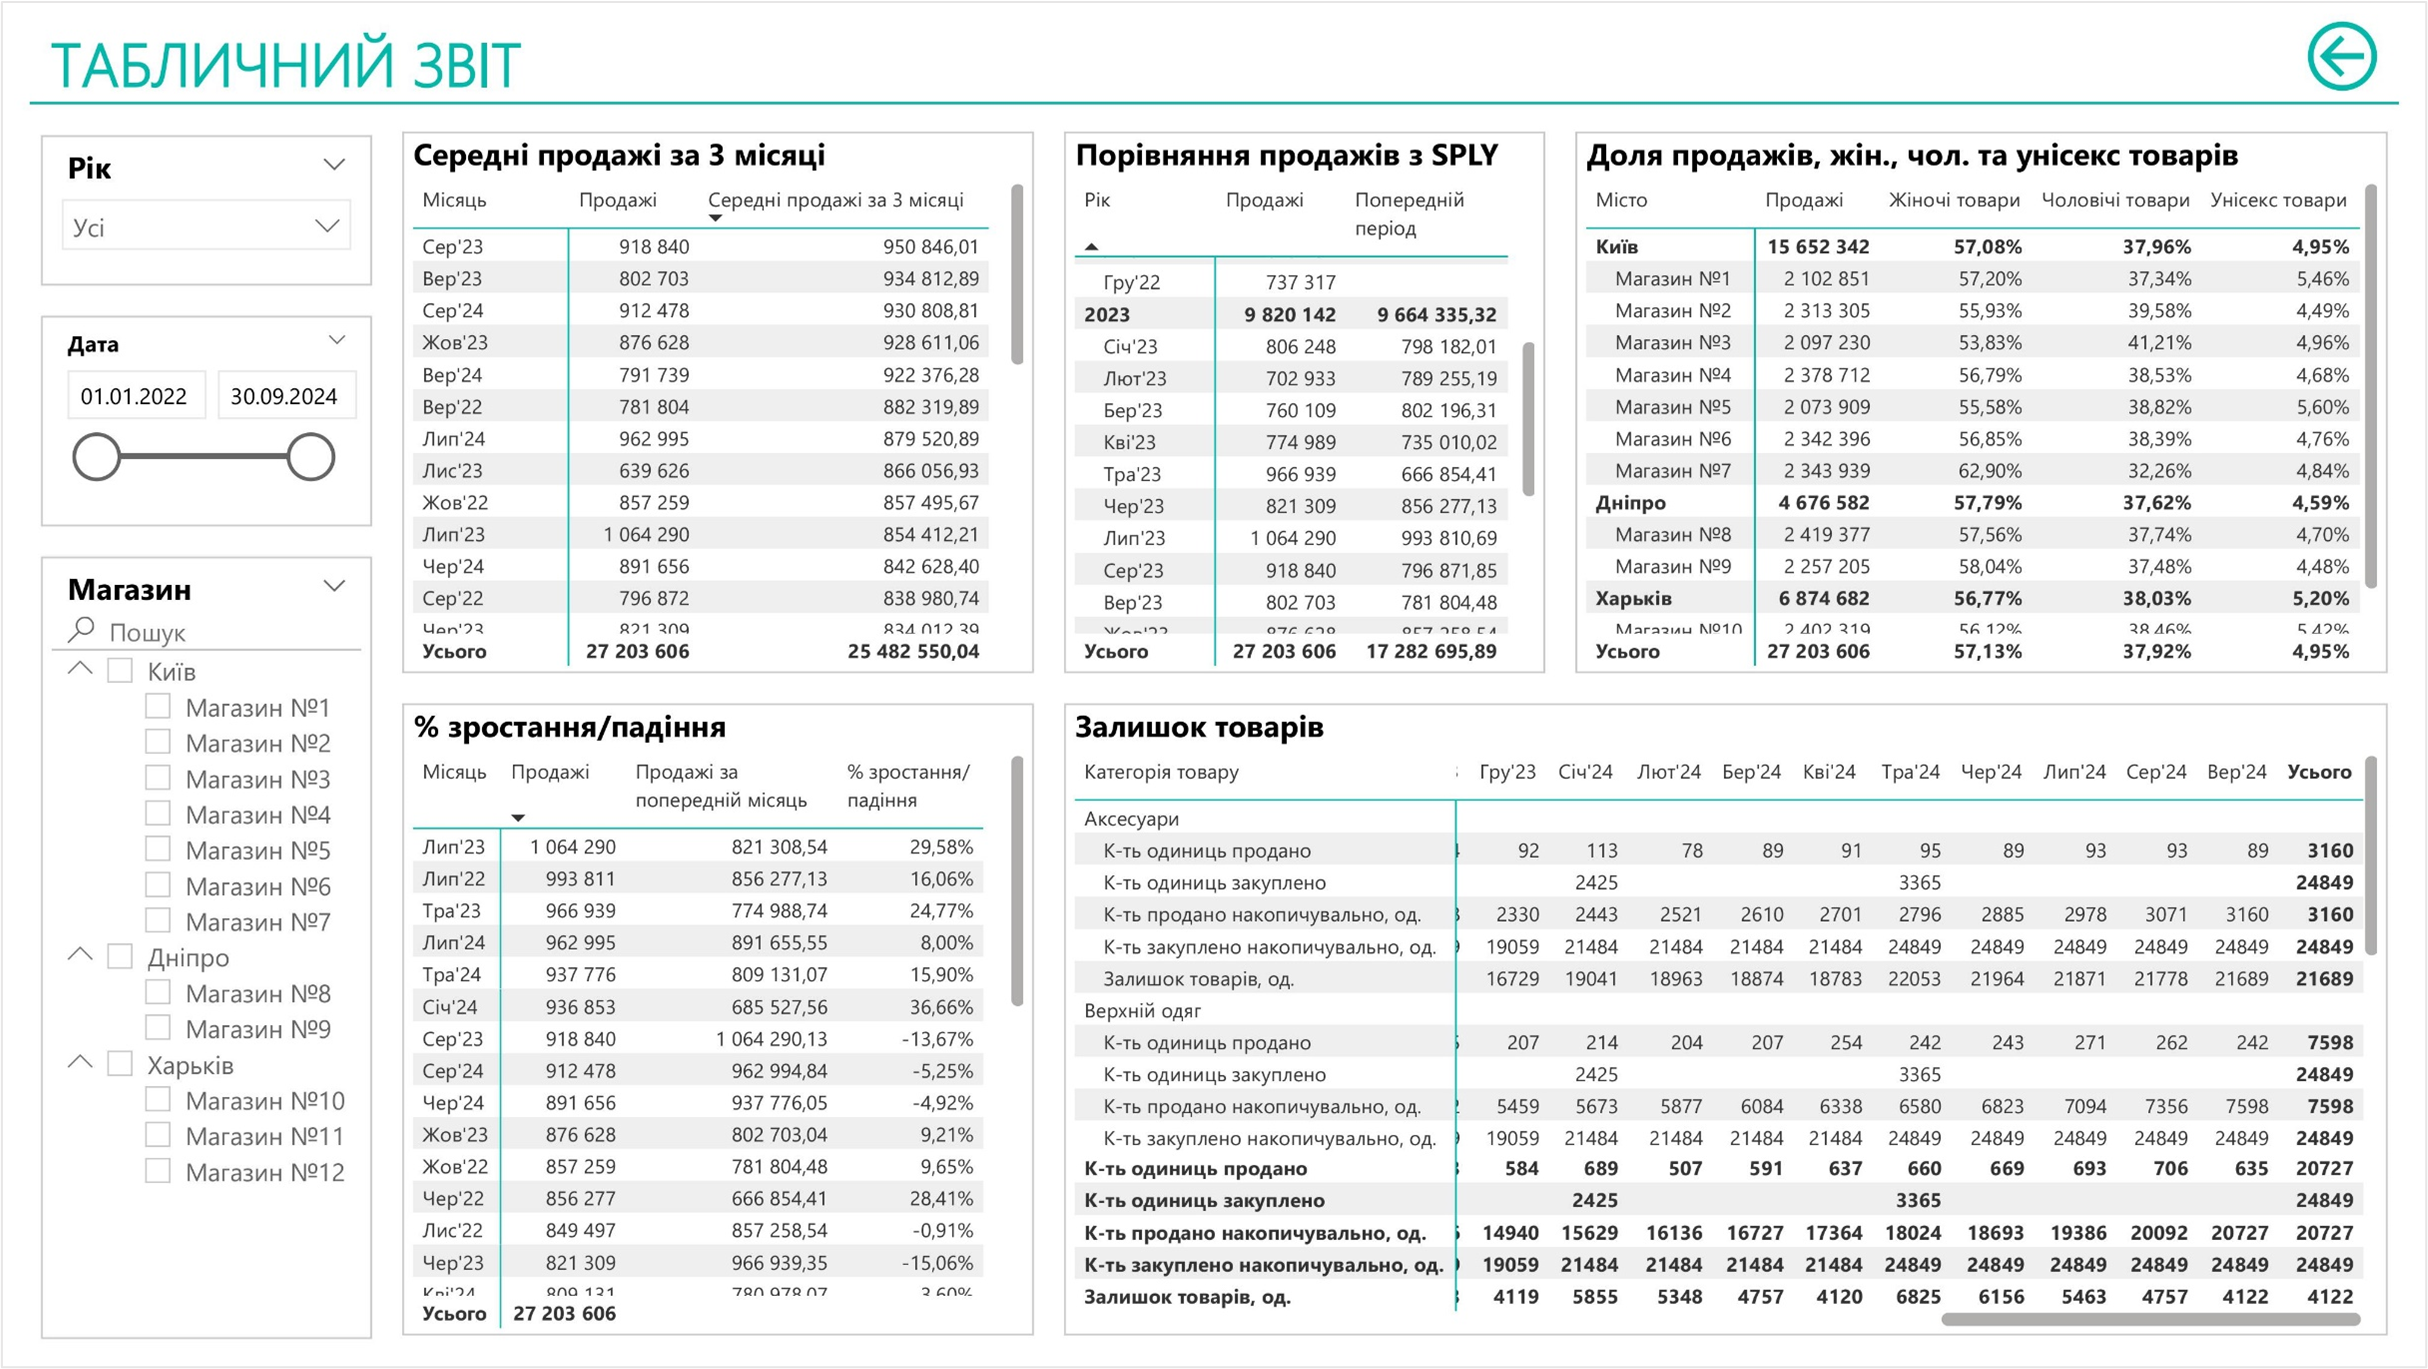

What the dashboard file says about the page in this screenshot:
{"tool":"powerbi","page":{"name":"Табличний звіт","canvas":[1280,720],"ordinal":3},"visuals":[{"type":"slicer","fields":{"Values":["Календар.Дата"]},"box":[15.7,162,176,112],"z":0},{"type":"slicer","fields":{"Values":["довМагазини.Місто","довМагазини.Магазин"]},"box":[15.7,290,176,416],"z":1000},{"type":"slicer","fields":{"Values":["Календар.Рік"]},"box":[15.7,66,176,80],"z":2000},{"type":"basicShape","box":[0,33,1280,32],"z":3000},{"type":"textbox","box":[16,0,512,64],"z":4000},{"type":"actionButton","box":[1216,0,48,48],"z":5000},{"type":"pivotTable","title":"Залишок товарів","fields":{"Values":["Sum(рПродажіФакт.К-ть)","Sum(рЗакупки.К-ть)","рПродажіФакт.К-ть продано накопичувально, од.","рПродажіФакт.К-ть закуплено накопичувально, од.","рПродажіФакт.Залишок товарів, од."],"Columns":["Календар.Місяць"],"Rows":["довТовари.Категорія товару"]},"box":[560,368,704,336],"z":6000},{"type":"pivotTable","title":"% зростання/падіння","fields":{"Rows":["Календар.Місяць"],"Values":["рПродажіФакт.Продажі міра","рПродажіФакт.Продажі факт Попередній місяць","рПродажіФакт.% зростання/падіння"]},"box":[208,368,336,336],"z":7000},{"type":"pivotTable","title":"Середні продажі за 3 місяці","fields":{"Rows":["Календар.Місяць"],"Values":["рПродажіФакт.Продажі міра","рПродажіФакт.Середні продажі за 3 місяців"]},"box":[208,64,336,288],"z":8000},{"type":"pivotTable","title":"Порівняння продажів з SPLY","fields":{"Rows":["Календар.Рік","Календар.Місяць","Календар.Дата"],"Values":["рПродажіФакт.Продажі міра","рПродажіФакт.Продажі факт SPLY"]},"box":[560,64,256,288],"z":9000},{"type":"pivotTable","title":"Доля продажів, жін., чол. та унісекс товарів","fields":{"Rows":["довМагазини.Місто","довМагазини.Магазин"],"Values":["рПродажіФакт.Продажі міра","рПродажіФакт.Доля продажів жіночих товарів","рПродажіФакт.Доля продажів чоловічих товарів","рПродажіФакт.Доля продажів унісекс товарів"]},"box":[832,64,432,288],"z":10000}]}

Visuals, with their boxes in screenshot pixels (x1, y1, x2, y2), scaled from the page's 1280x720 canvas onto the 2428x1369 screenshot:
slicer - Календар.Дата: 30 308 364 521
slicer - довМагазини.Місто x довМагазини.Магазин: 30 551 364 1342
slicer - Календар.Рік: 30 125 364 278
basicShape: 0 63 2427 124
textbox: 30 0 1002 122
actionButton: 2307 0 2398 91
"Залишок товарів" pivotTable: 1062 700 2398 1339
"% зростання/падіння" pivotTable: 395 700 1032 1339
"Середні продажі за 3 місяці" pivotTable: 395 122 1032 669
"Порівняння продажів з SPLY" pivotTable: 1062 122 1548 669
"Доля продажів, жін., чол. та унісекс товарів" pivotTable: 1578 122 2398 669
